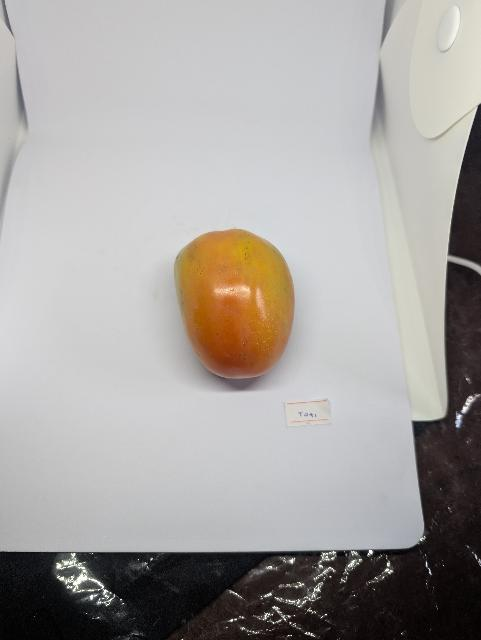turning: (155, 224, 304, 386)
